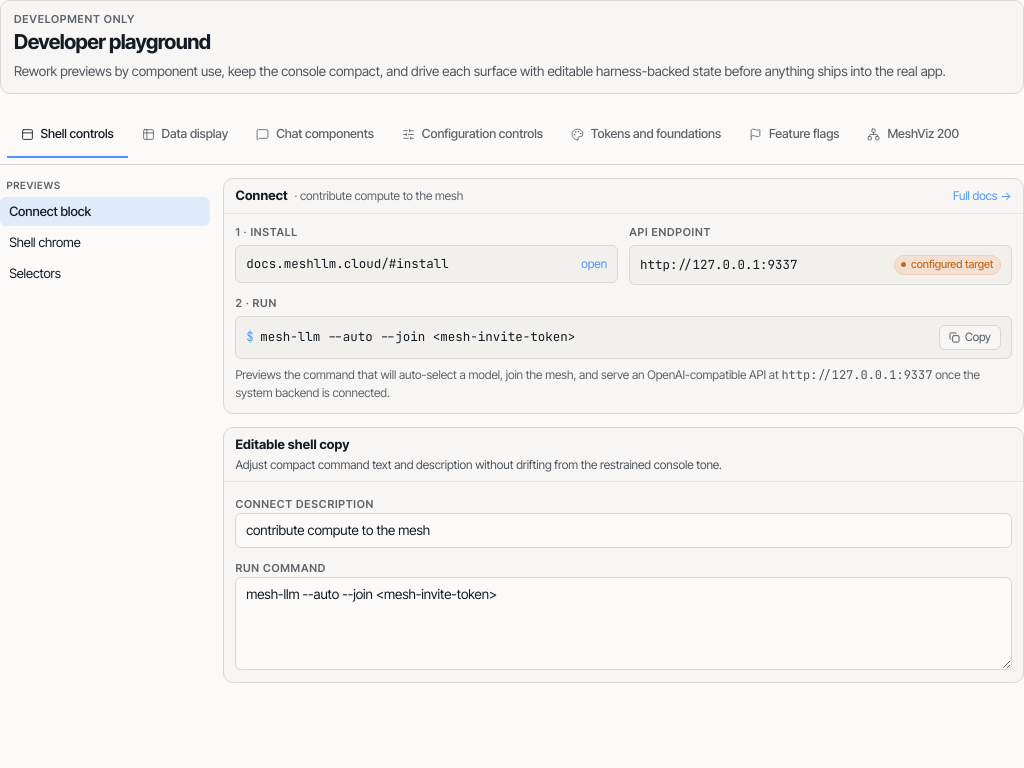
Test: DeveloperPlaygroundPage › toggles feature flags and persists only local overrides
Click the tab "Feature flags": (794, 136) [735,114,853,158]
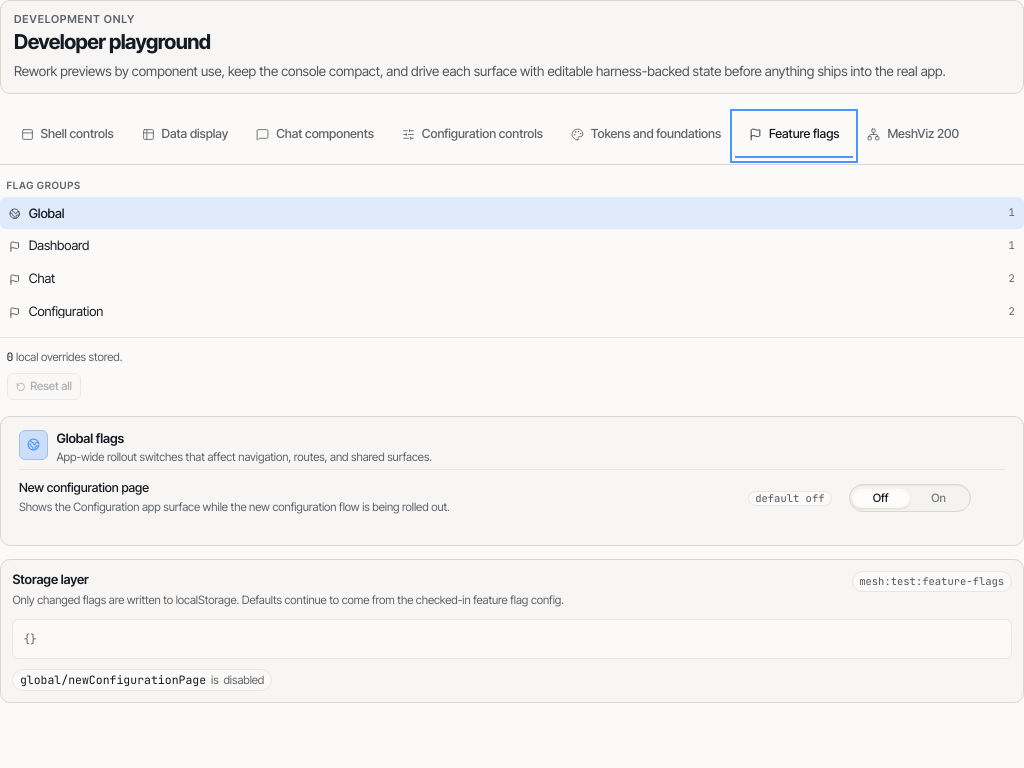
Expected: the text "App-wide rollout switches" is shown, [56,450,432,464]
Expected: the text "Shows the Configuration app surface" is shown, [19,500,450,514]
Click the radio button labelled "On": (938, 498) [910,489,968,508]
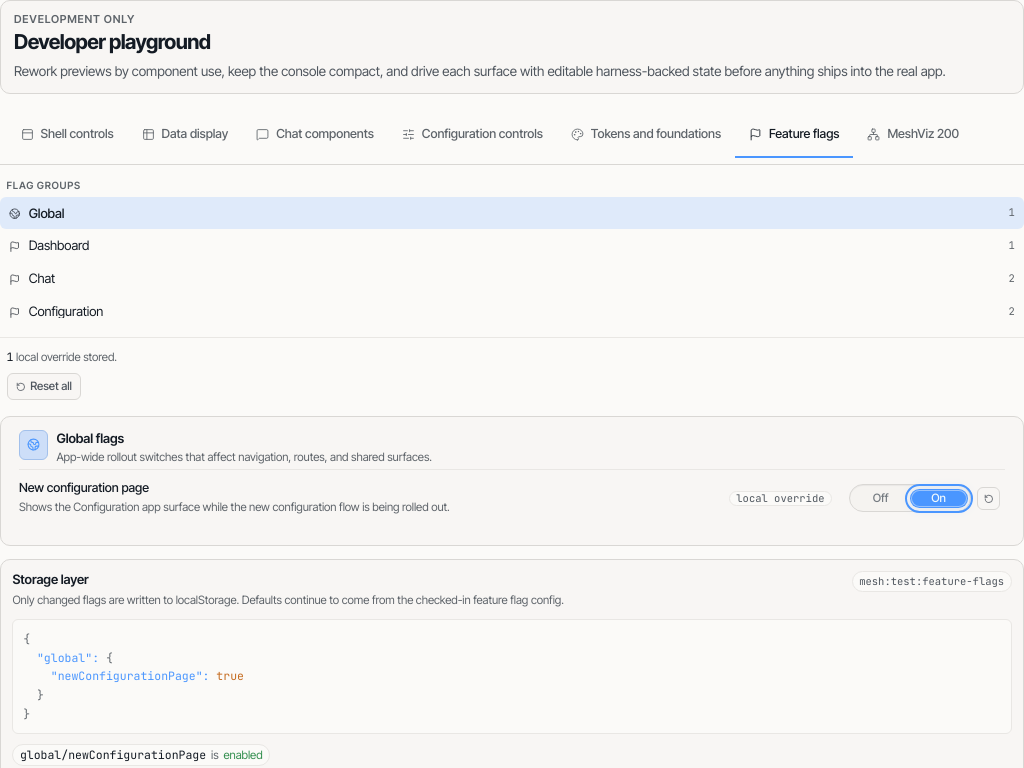
Expected: the text "1 local override stored." is shown 2 times, [6,349,117,364]; [729,490,832,506]
Expected: the button named "reset new configuration page" is shown, [977,487,1000,510]
Expected: the text "\"global\":" is shown, [37,650,99,665]
